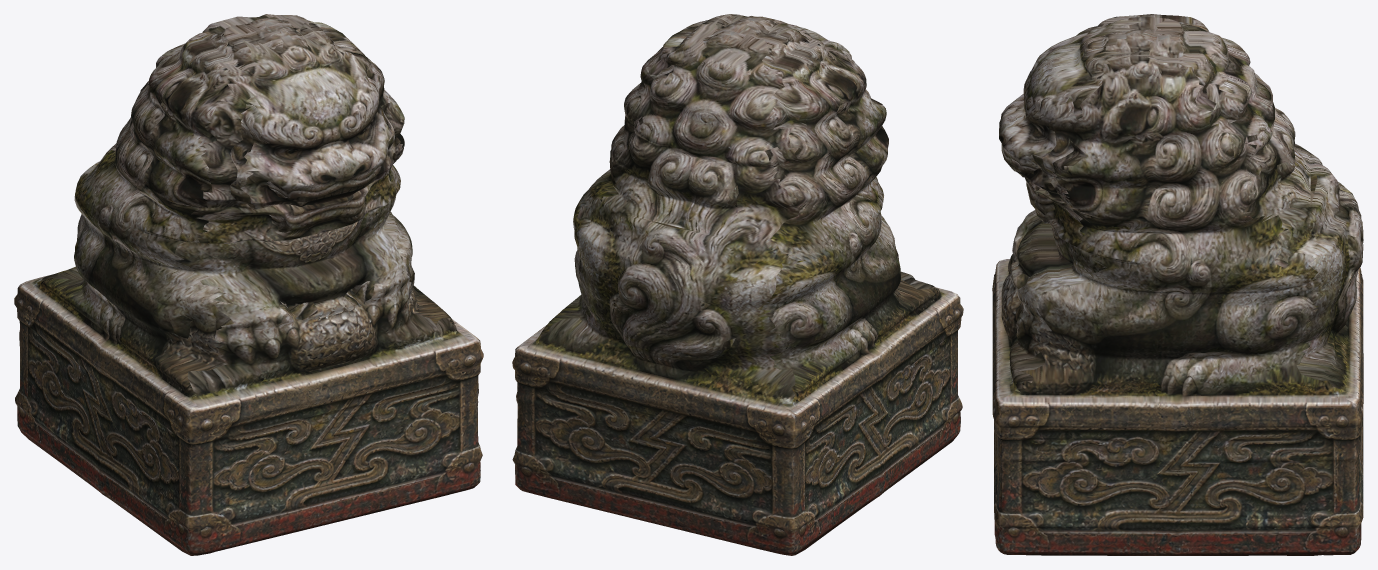
File: ward-lion-seal.glb
3 views of the same model, side by side, from view 1: azimuth 30°, elevation 25°; view 2: azimuth 150°, elevation 25°; view 3: azimuth 270°, elevation 25° (orthographic). The views are drawn at different scales.
Bounding box in the file's own units: 2.61 × 3.64 × 2.69.
1 material, 1 textured.
